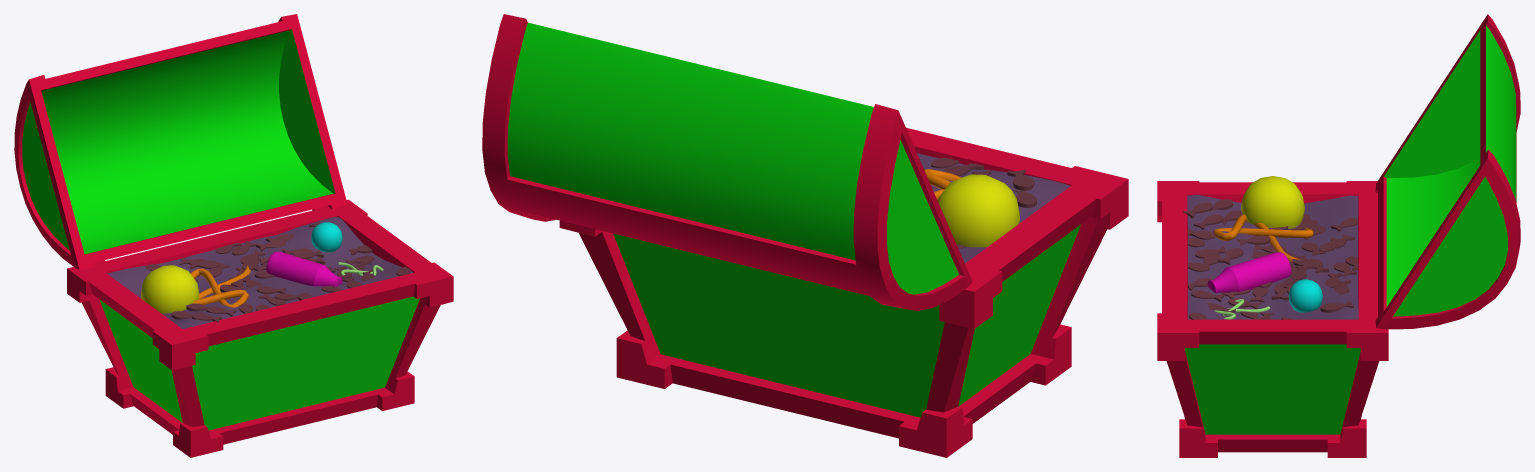
File: chest.fbx
3 renders of one model, left to right at view 1: azimuth 30°, elevation 25°; view 2: azimuth 150°, elevation 25°; view 3: azimuth 270°, elevation 25°, orthographic. The views are drawn at different scales.
Visible parts, largest first — view 1: Cube.001; view 2: Cube.001; view 3: Cube.001.
Part boxes in pixels (x1,y1,x2,y2): Cube.001: [14, 14, 453, 457]; Cube.001: [482, 14, 1128, 457]; Cube.001: [1157, 14, 1520, 457].
Size of the model in its own units: 44.82 by 42.95 by 45.35.
